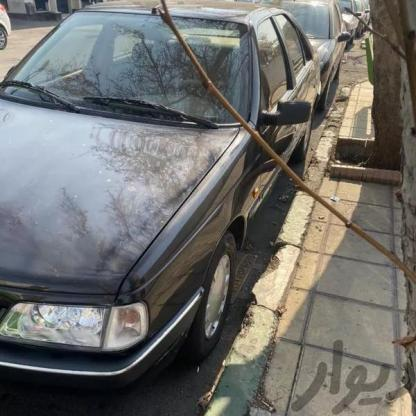Car: (0, 1, 332, 395), (260, 0, 358, 123), (335, 0, 368, 38)
